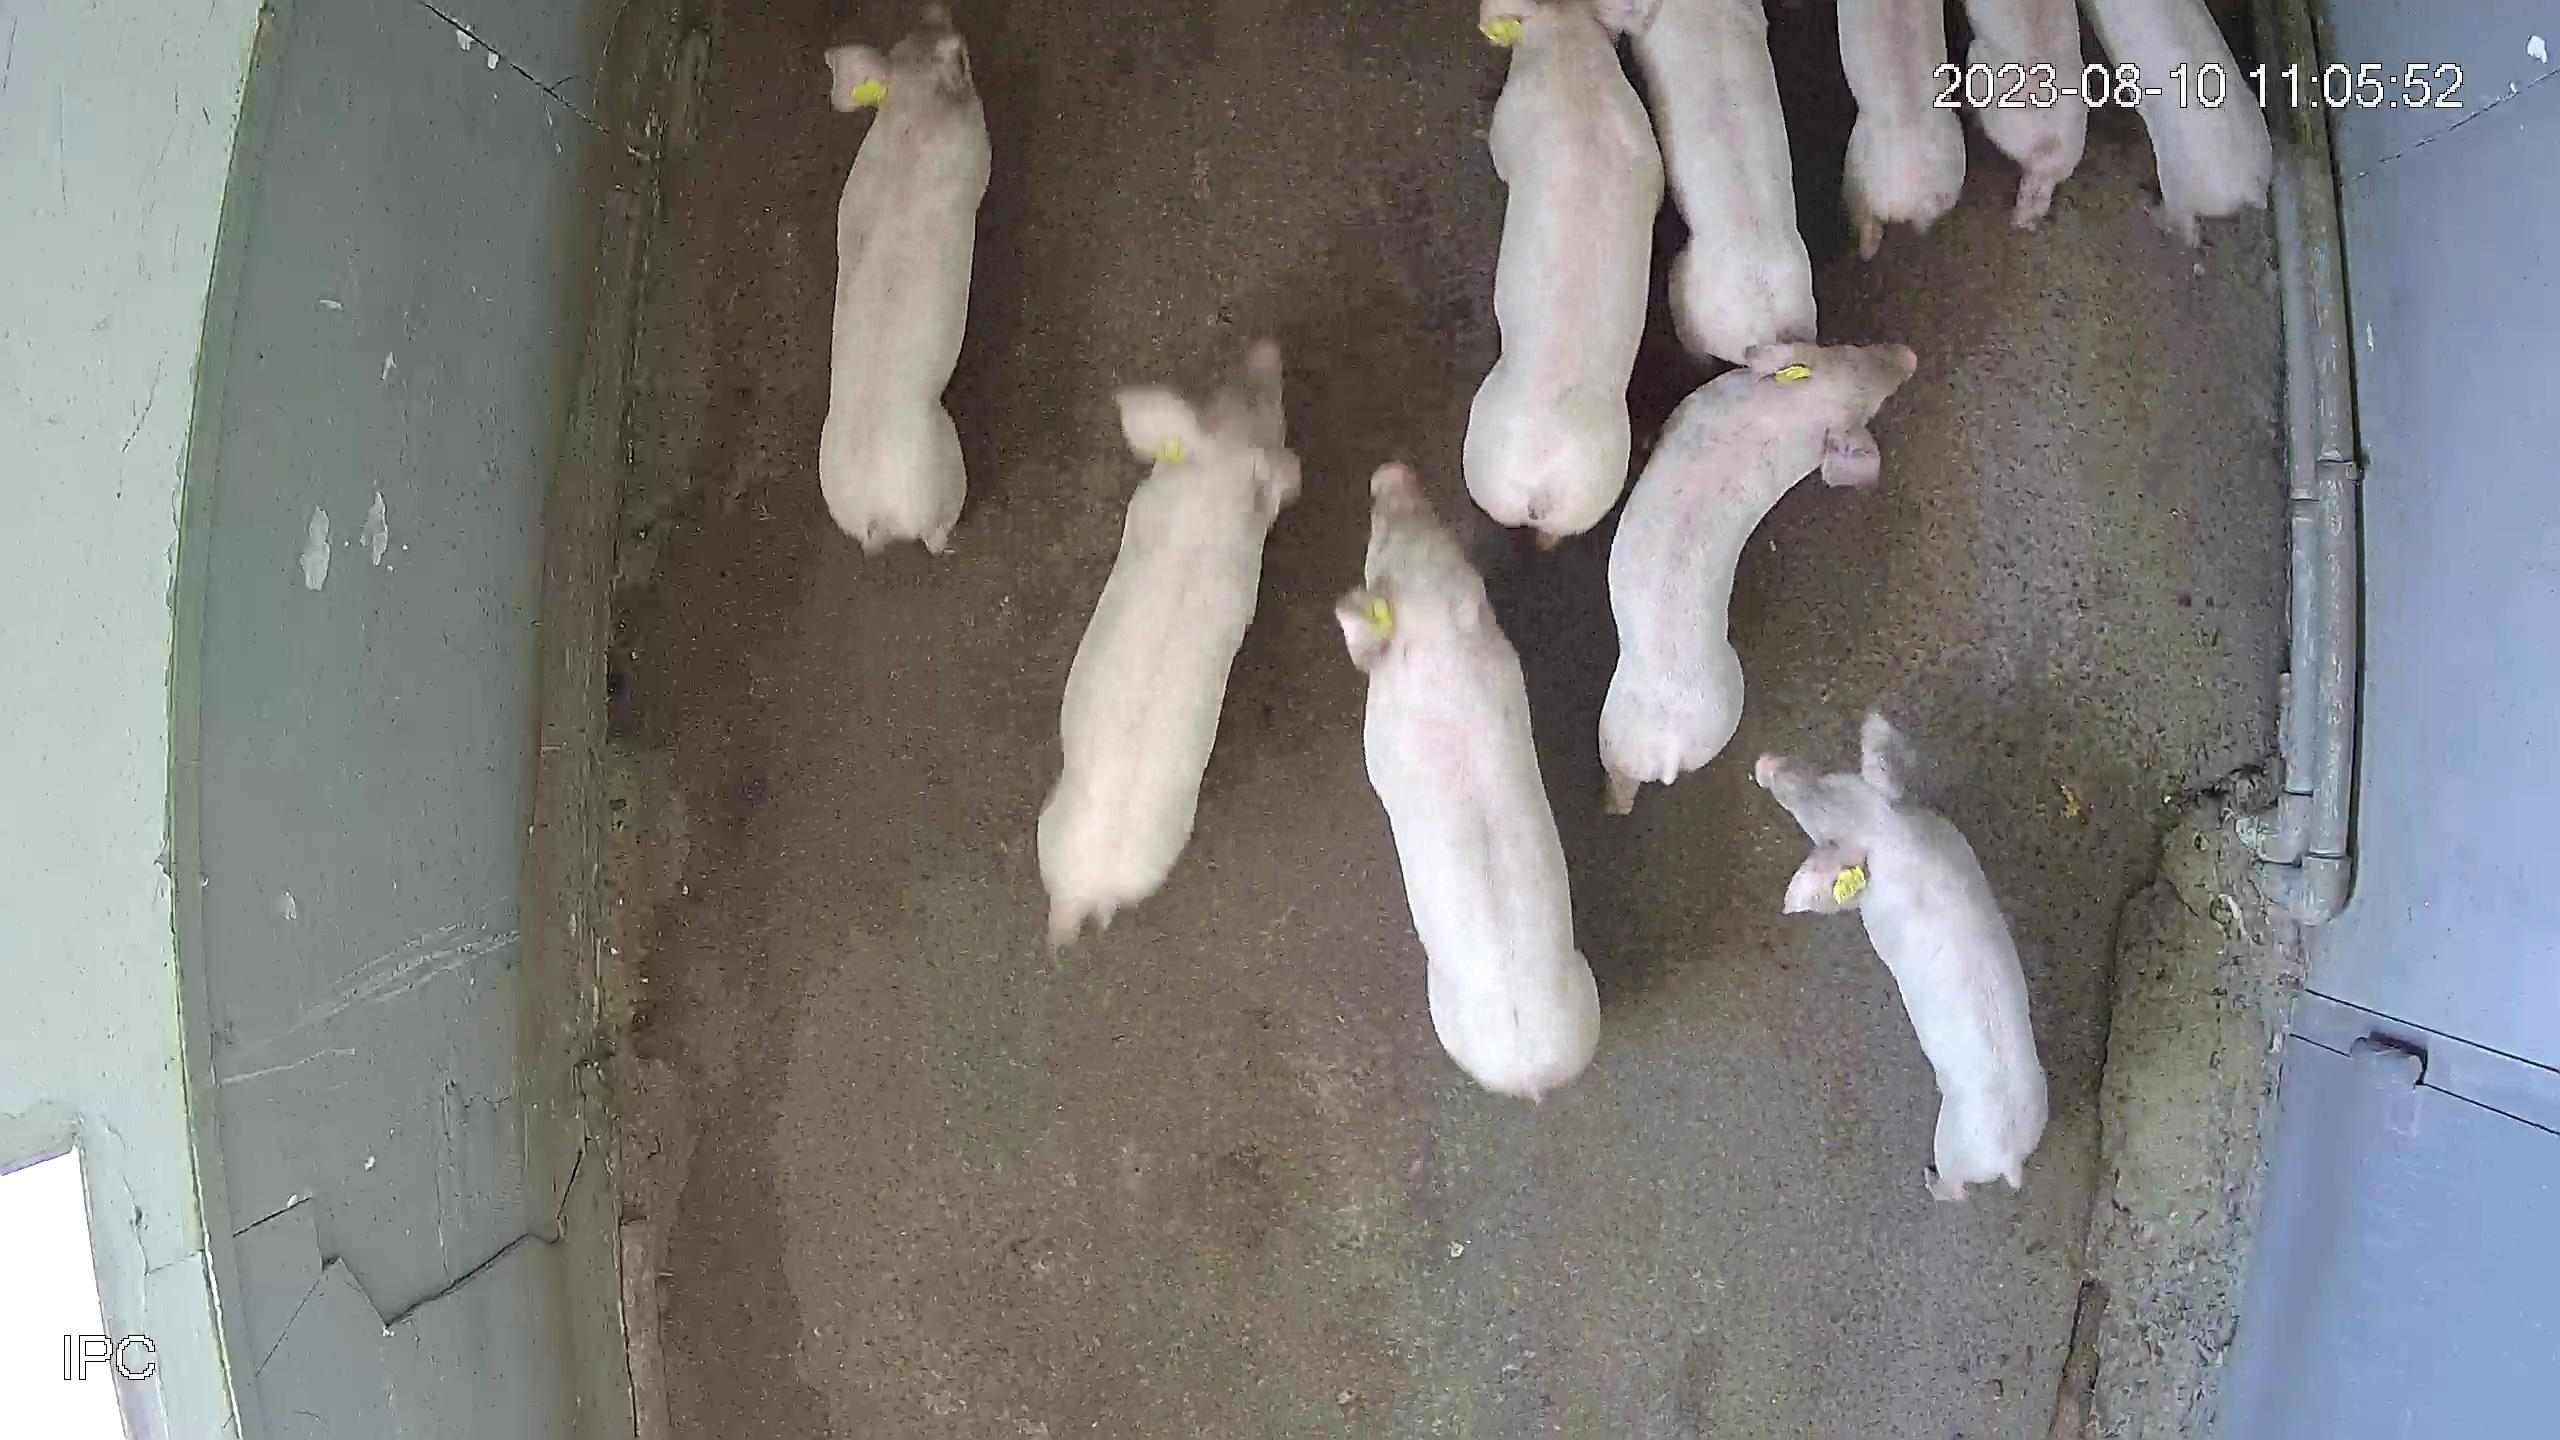Pig: (1336, 461, 1602, 1099), (1037, 334, 1303, 946), (1602, 339, 1918, 812), (1756, 709, 2052, 1201), (1465, 0, 1667, 543), (818, 2, 990, 550), (1623, 0, 1820, 362), (2087, 0, 2275, 243), (1839, 0, 1969, 255), (1969, 0, 2092, 225)
